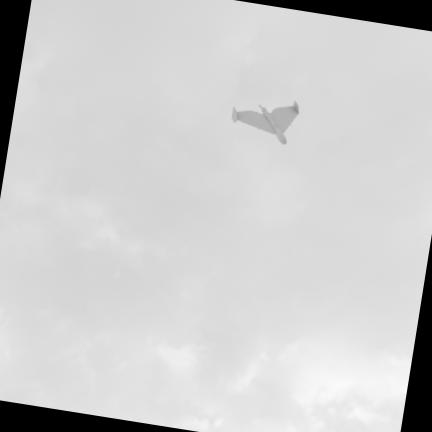Shahed: (232, 101, 299, 144)
